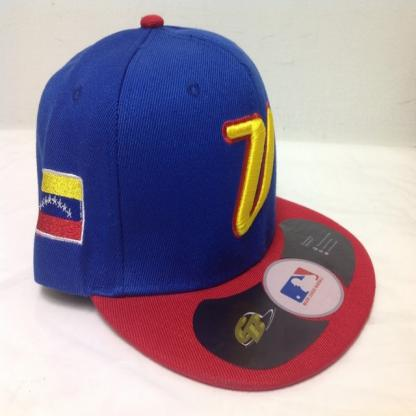cap: (30, 11, 374, 392)
